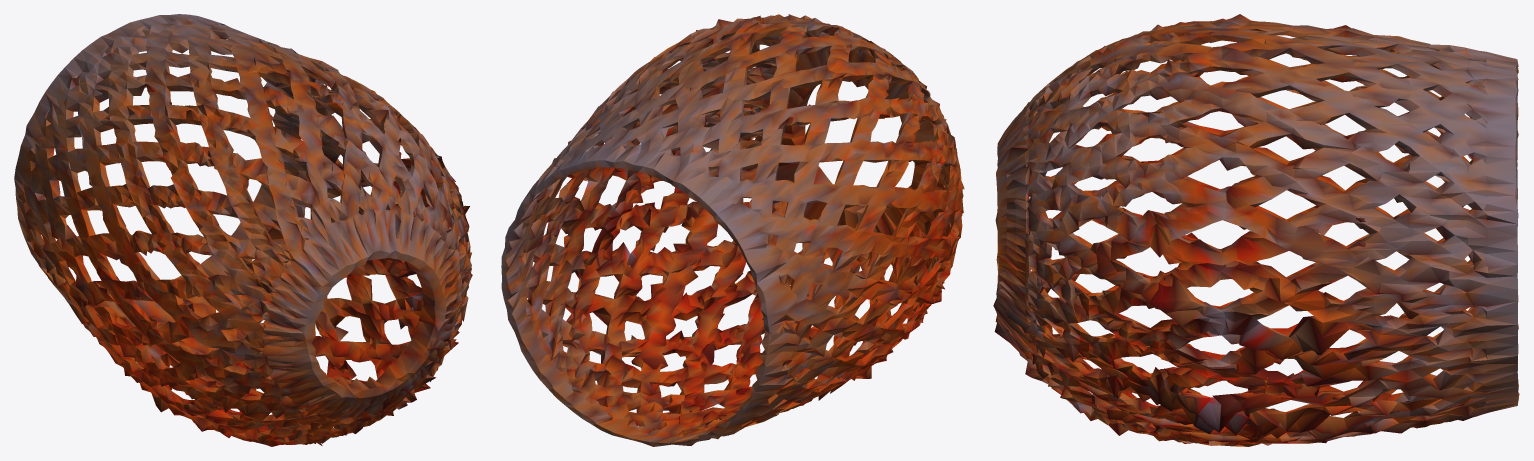
Rendered from lamp_shade_14_final300.obj.
3 views of the same model, side by side, from view 1: azimuth 30°, elevation 25°; view 2: azimuth 150°, elevation 25°; view 3: azimuth 270°, elevation 25° (orthographic). The views are drawn at different scales.
Bounding box in the file's own units: 1.26 × 1.23 × 1.5.
